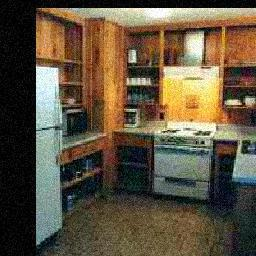Electrodomestico: (37, 66, 64, 235), (160, 132, 212, 198)
Lavaplatos: (237, 134, 256, 159)
